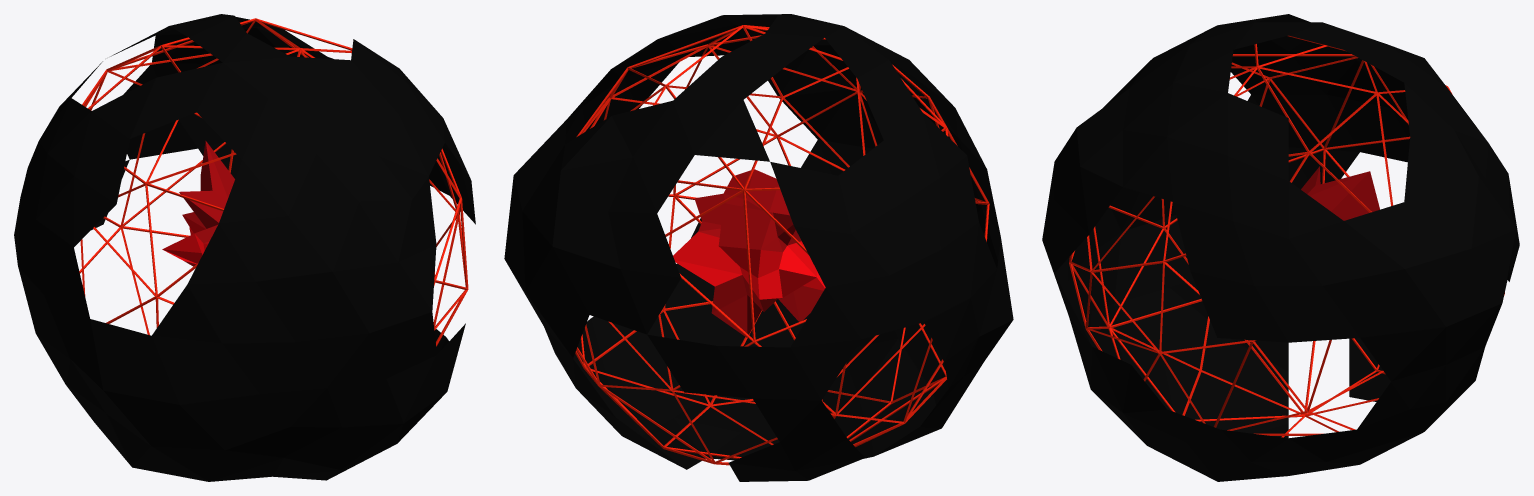
The model's file is Planet16.glb.
3 renders of one model, left to right at view 1: azimuth 30°, elevation 25°; view 2: azimuth 150°, elevation 25°; view 3: azimuth 270°, elevation 25°, orthographic. The views are drawn at different scales.
Visible parts, largest first — view 1: Planet_16; view 2: Planet_16; view 3: Planet_16.
Boxes of the visible parts, x1=… form: Planet_16: x1=14, y1=14, x2=475, y2=481; Planet_16: x1=504, y1=14, x2=1013, y2=481; Planet_16: x1=1042, y1=14, x2=1519, y2=481.
Bounding box in the file's own units: 3.98 × 3.98 × 4.11.
